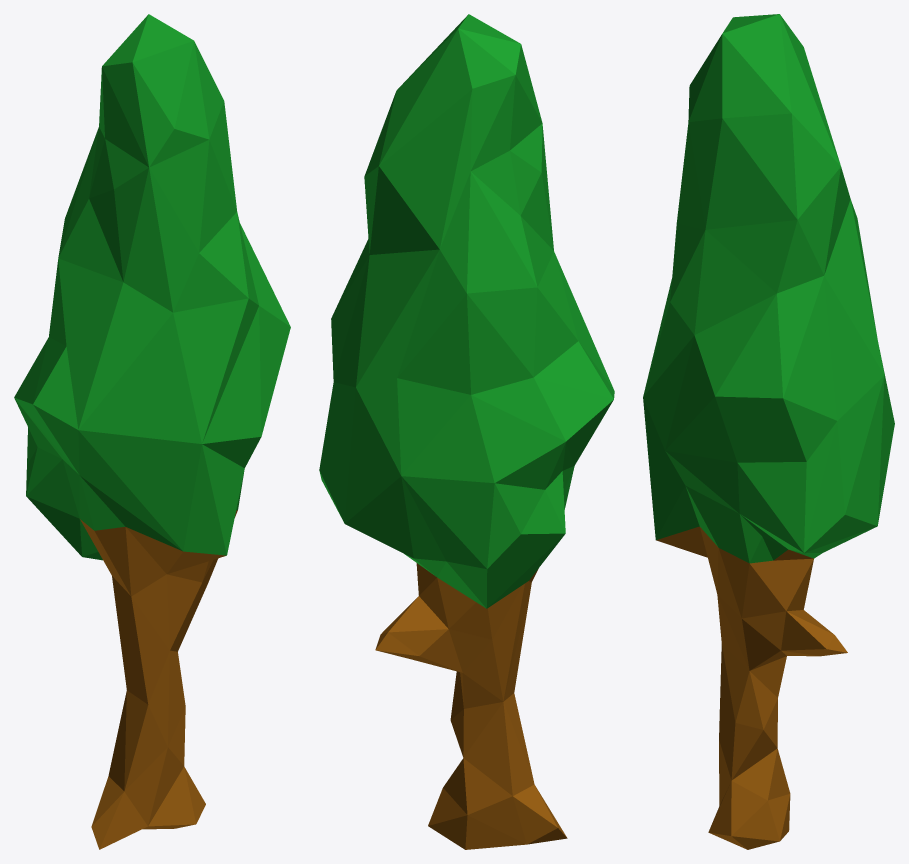
File: Tree_LoPoly.fbx
The picture shows the model from 3 angles, left to right: view 1: azimuth 30°, elevation 25°; view 2: azimuth 150°, elevation 25°; view 3: azimuth 270°, elevation 25°; orthographic projection. The views are drawn at different scales.
Parts seen in each view (by area): view 1: Tree_F; view 2: Tree_F; view 3: Tree_F.
Part boxes in pixels (left/top/right/bottom): Tree_F: left=14, top=14, right=290, bottom=849; Tree_F: left=319, top=14, right=614, bottom=849; Tree_F: left=643, top=14, right=894, bottom=849.
Bounding box in the file's own units: 3.34 × 10.01 × 2.75.
Materials: 1 (1 with a texture image).
